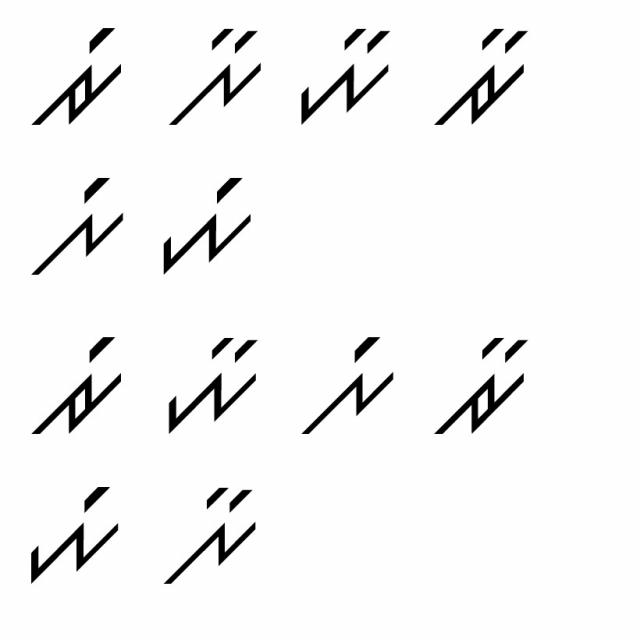lan: (160, 476, 272, 589), (170, 19, 268, 130)
lang: (290, 316, 397, 439), (21, 164, 131, 282)
ran: (424, 23, 541, 139), (428, 320, 537, 439)
rang: (26, 327, 130, 438), (27, 24, 128, 130)
yan: (155, 323, 268, 436), (298, 25, 392, 124)
yang: (151, 167, 260, 276), (25, 483, 128, 585)
